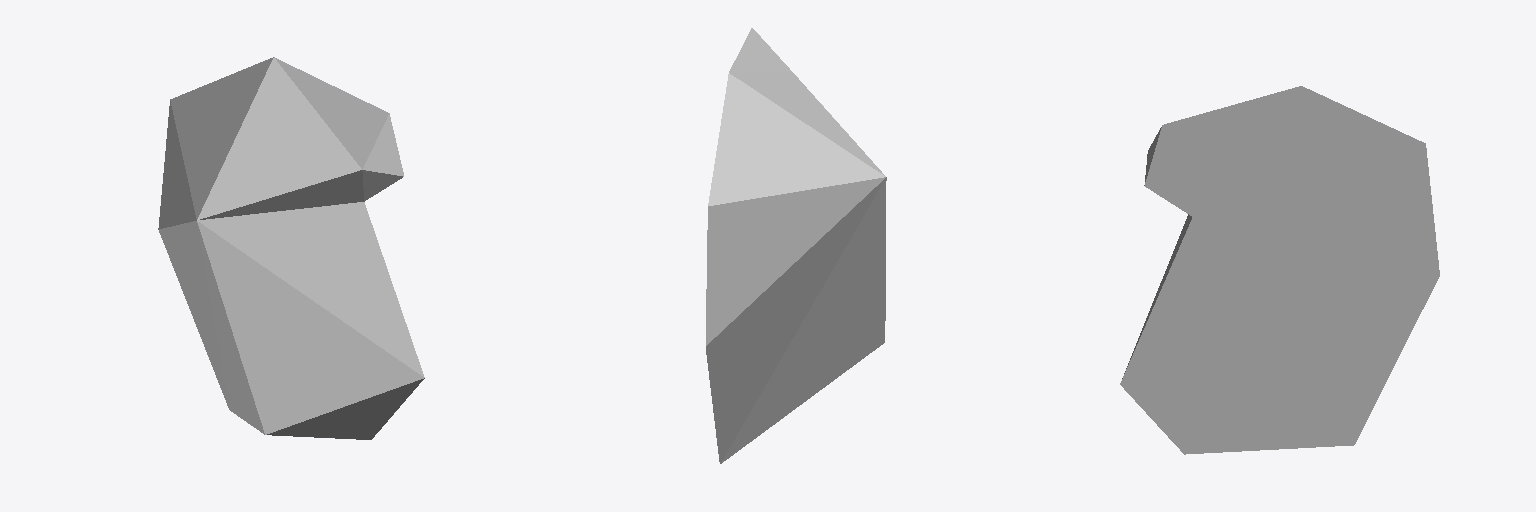
The model's file is 04_02_RHand.obj.
3 renders of one model, left to right at view 1: azimuth 30°, elevation 25°; view 2: azimuth 150°, elevation 25°; view 3: azimuth 270°, elevation 25°, orthographic.
Visible parts, largest first — view 1: Object_41 nin06_ObjXForm Object_39 part06_XForm Object_34 part04; view 2: Object_41 nin06_ObjXForm Object_39 part06_XForm Object_34 part04; view 3: Object_41 nin06_ObjXForm Object_39 part06_XForm Object_34 part04.
Boxes of the visible parts, <box> form: Object_41 nin06_ObjXForm Object_39 part06_XForm Object_34 part04: <box>158,57,424,439</box>; Object_41 nin06_ObjXForm Object_39 part06_XForm Object_34 part04: <box>706,28,886,463</box>; Object_41 nin06_ObjXForm Object_39 part06_XForm Object_34 part04: <box>1120,86,1439,454</box>.
Bounding box in the file's own units: 12.8 × 25.36 × 19.98.